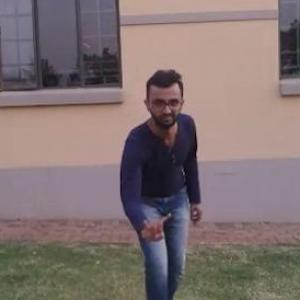takeoff-hand: (139, 210, 173, 249)
